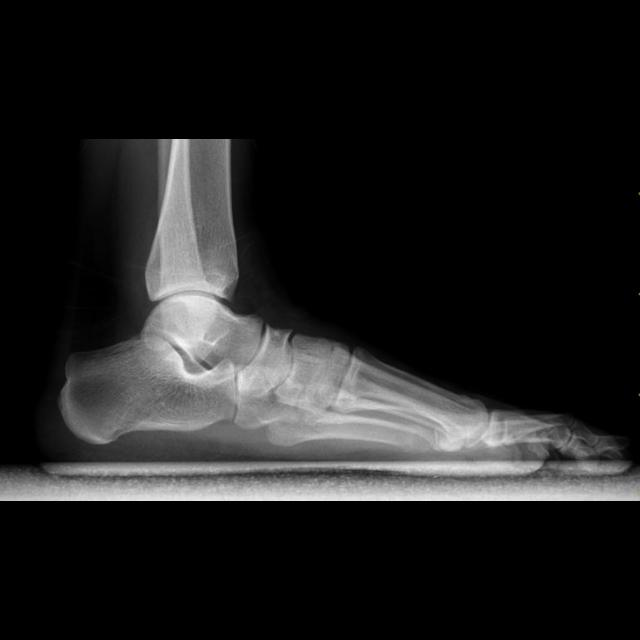a: (60, 336, 235, 444)
b: (239, 325, 290, 397)
c: (332, 344, 489, 454)
